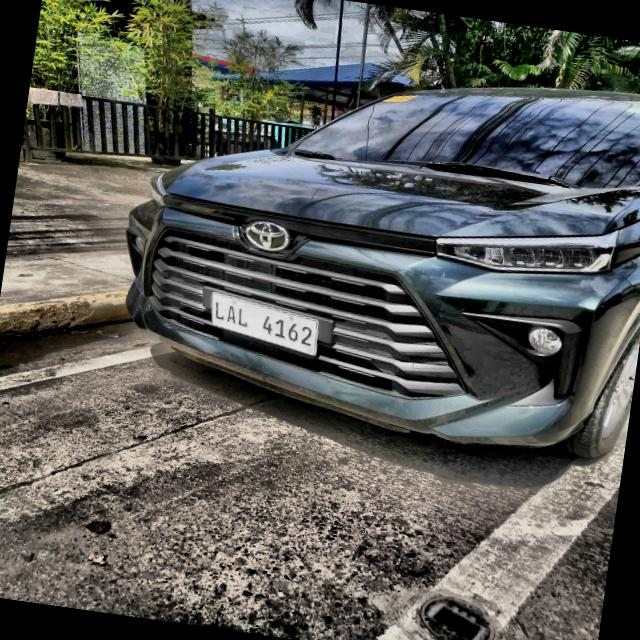license-plate: (202, 293, 325, 358)
